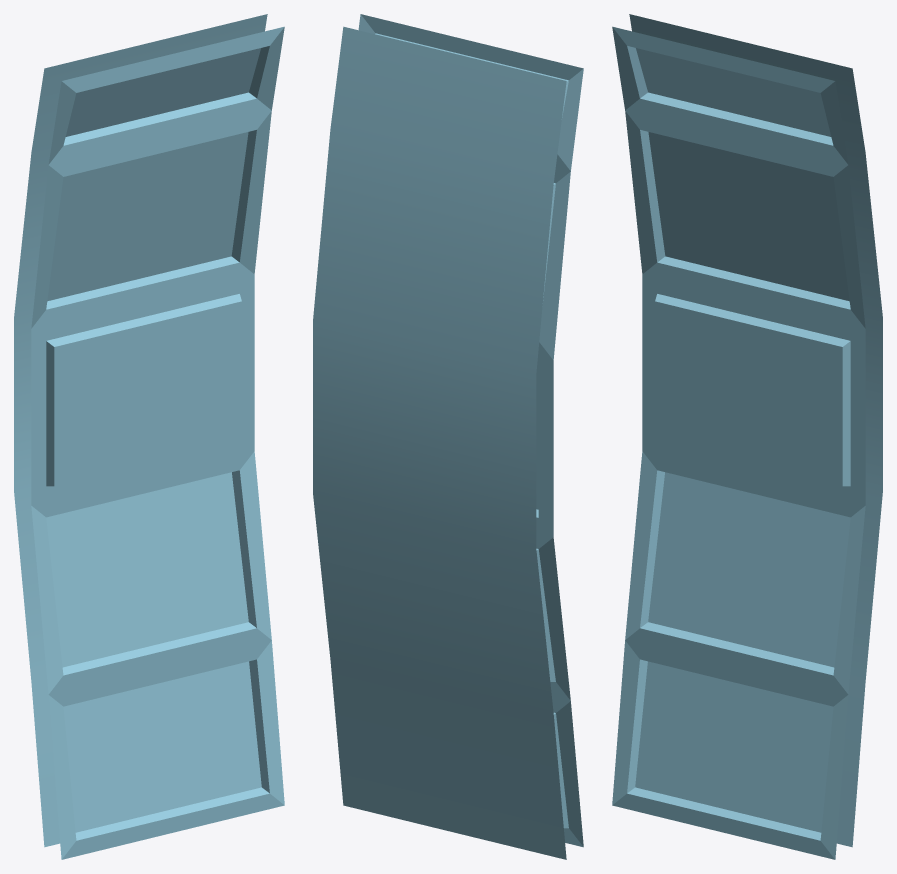
The model's file is sidewallBaseHalfA.FBX.
The picture shows the model from 3 angles, left to right: view 1: azimuth 30°, elevation 25°; view 2: azimuth 150°, elevation 25°; view 3: azimuth 330°, elevation 25°; orthographic projection.
Parts seen in each view (by area): view 1: sidewallBaseHalfA; view 2: sidewallBaseHalfA; view 3: sidewallBaseHalfA.
Part boxes in pixels (<box>): sidewallBaseHalfA: <box>14,14,284,859</box>; sidewallBaseHalfA: <box>313,14,583,859</box>; sidewallBaseHalfA: <box>612,14,882,859</box>.
Bounding box in the file's own units: 0.75 × 2.5 × 0.2757.
